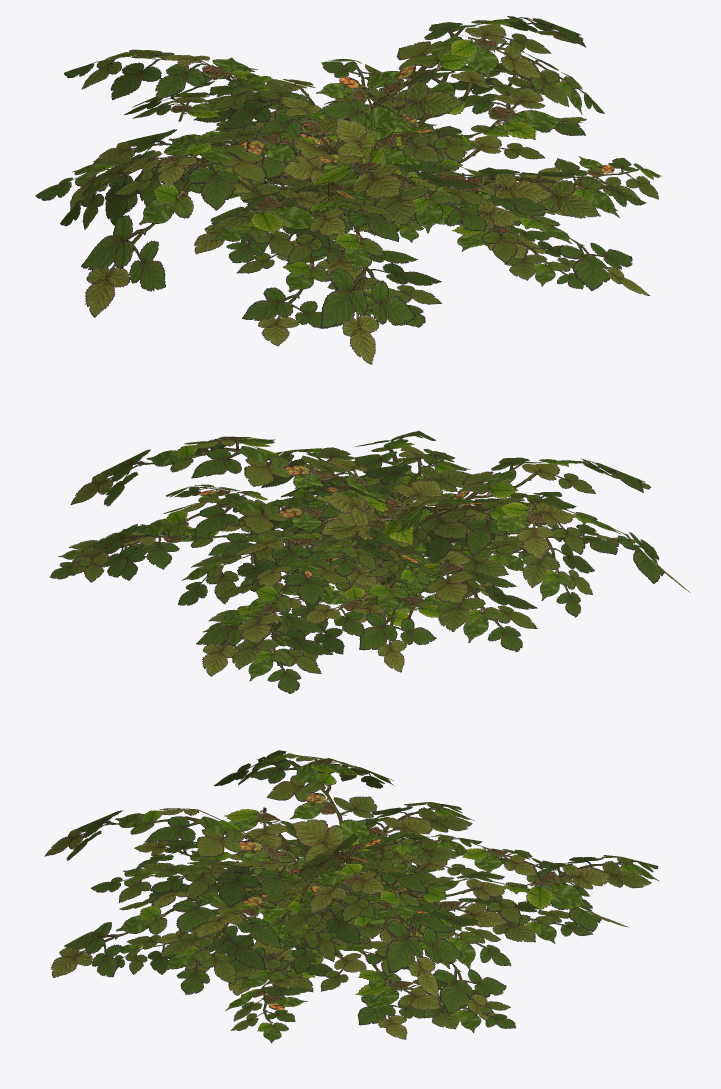
The model's file is bodembedekker 2.fbx.
3 views of the same model, one above another, from view 1: azimuth 30°, elevation 25°; view 2: azimuth 150°, elevation 25°; view 3: azimuth 270°, elevation 25° (orthographic). The views are drawn at different scales.
Visible parts, largest first — view 1: Mesh Object; view 2: Mesh Object; view 3: Mesh Object.
Part boxes in pixels (x1,y1,x2,y2): Mesh Object: (35, 16, 661, 364); Mesh Object: (49, 430, 690, 693); Mesh Object: (44, 750, 659, 1043).
Size of the model in its own units: 5.53 by 1.32 by 5.86.
